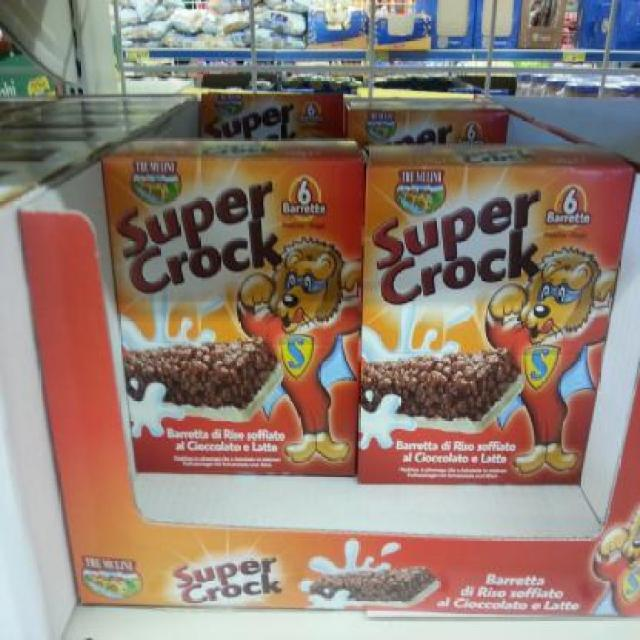Cereal bar: (98, 136, 360, 481), (368, 135, 609, 488)
